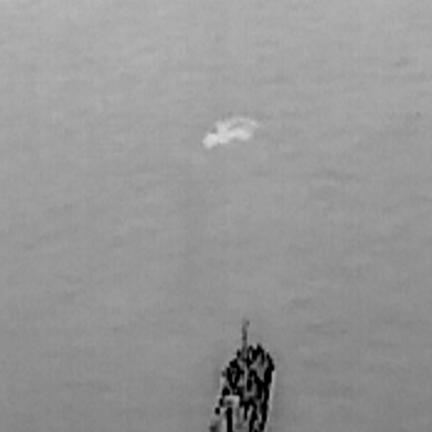flukeprints: (202, 116, 259, 149)
